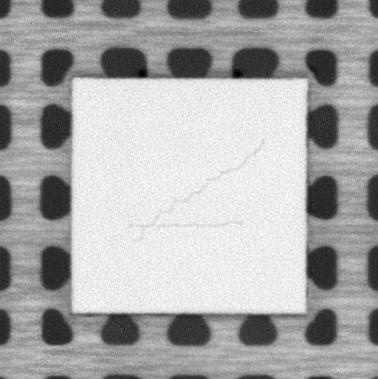DIE_CRACK: (129, 136, 266, 243), (127, 219, 246, 230)
